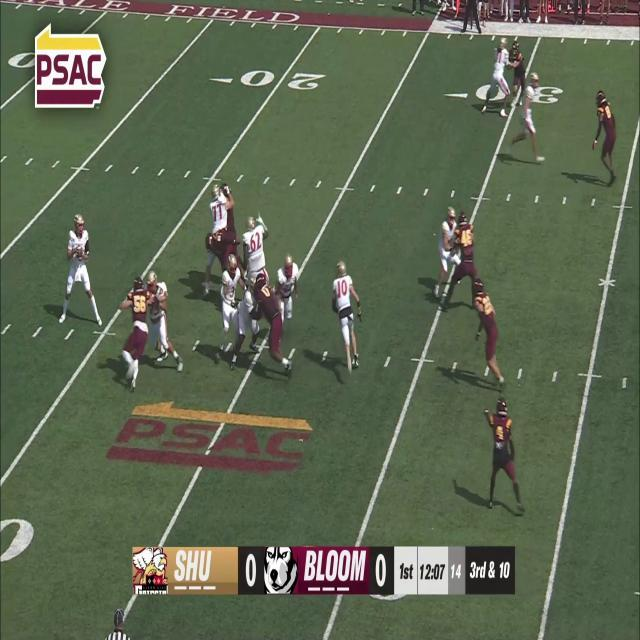football: (76, 245, 83, 260)
